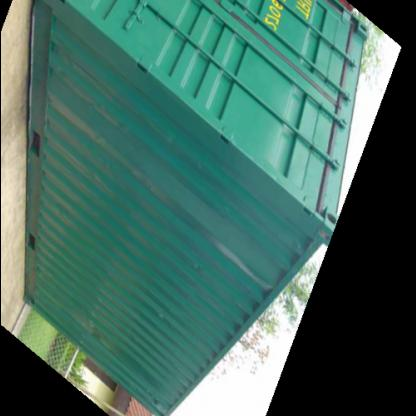Damage: (35, 66, 133, 192), (207, 236, 277, 296), (63, 312, 114, 350)
